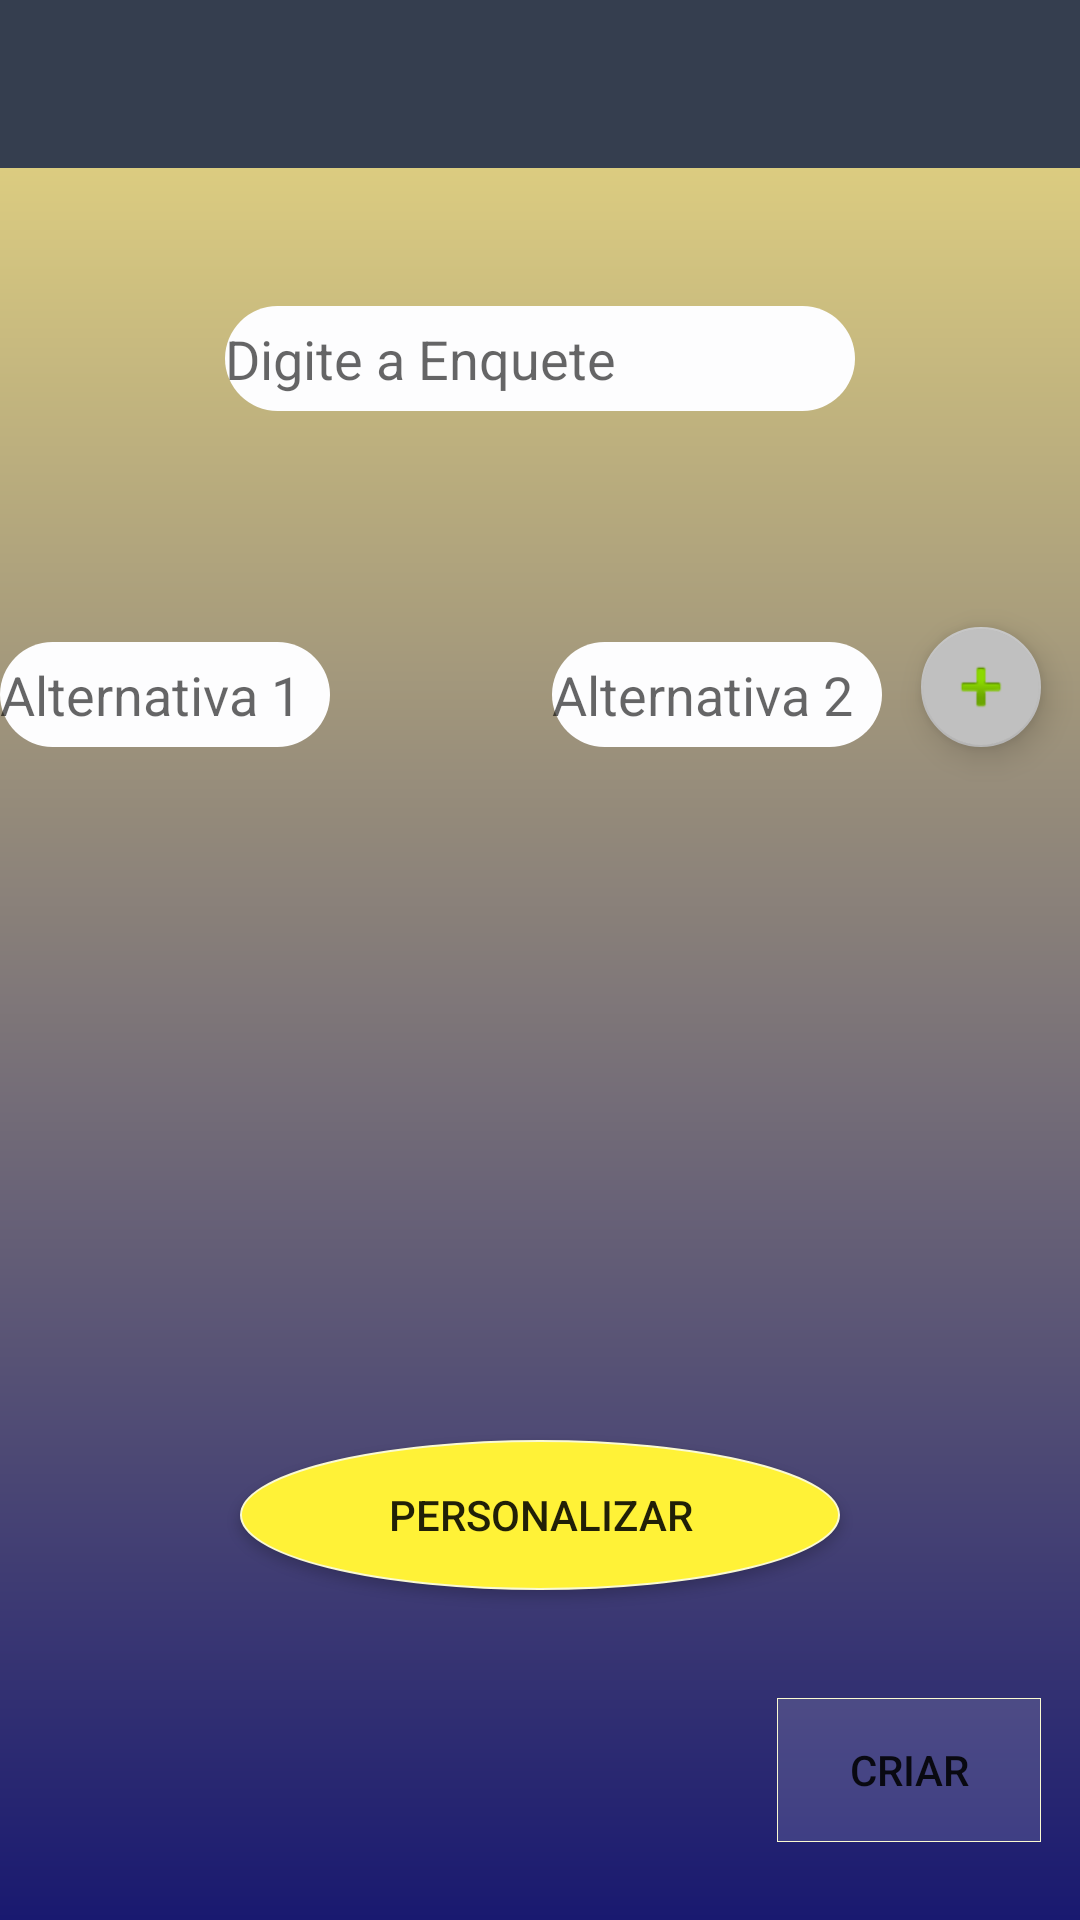

Screen size 1080px x 1920px. Icon name, then its center in pixels as (x=x, y=y):
add: (x=981, y=687)
